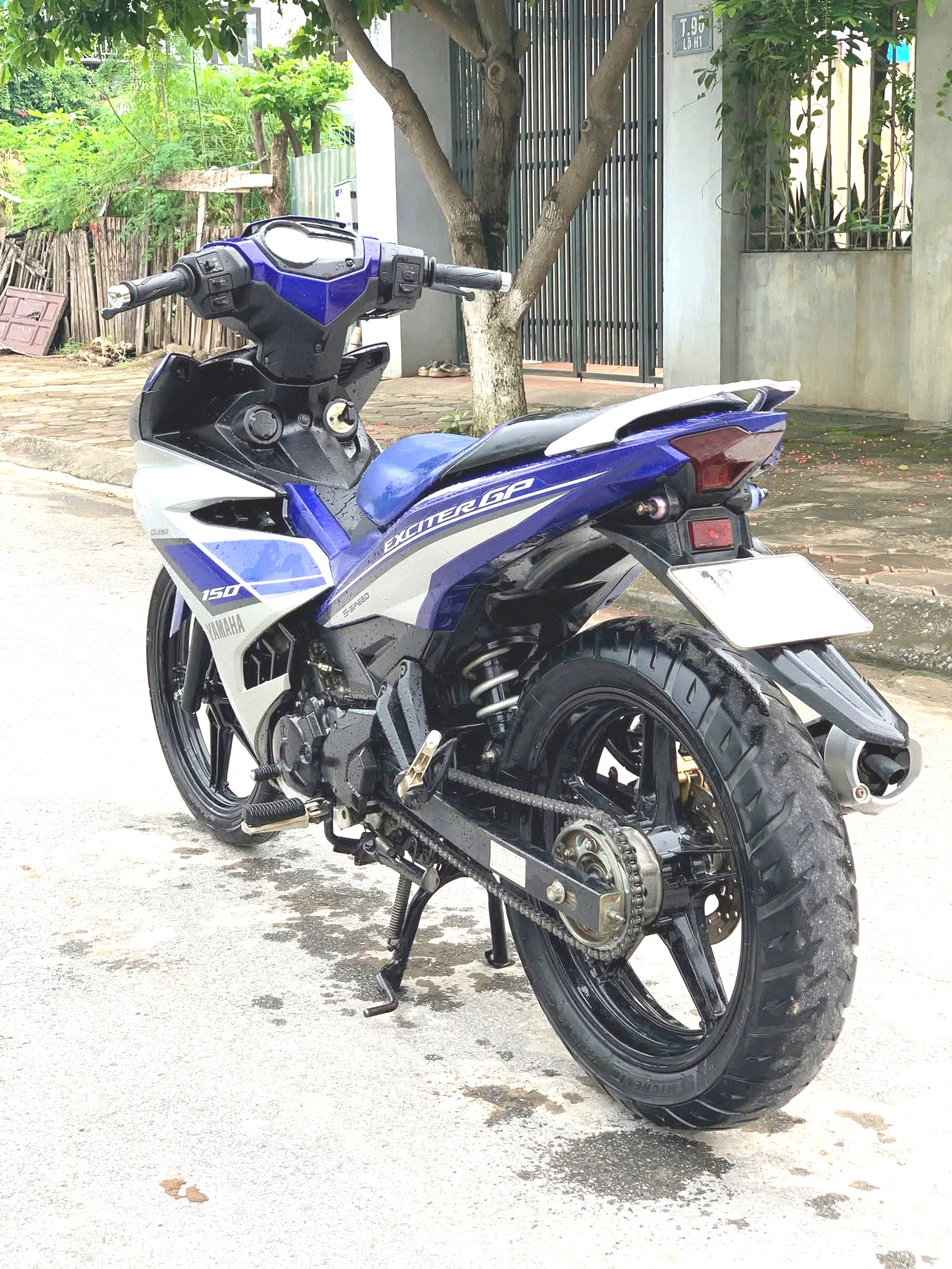Bien-so: (674, 570, 894, 702)
